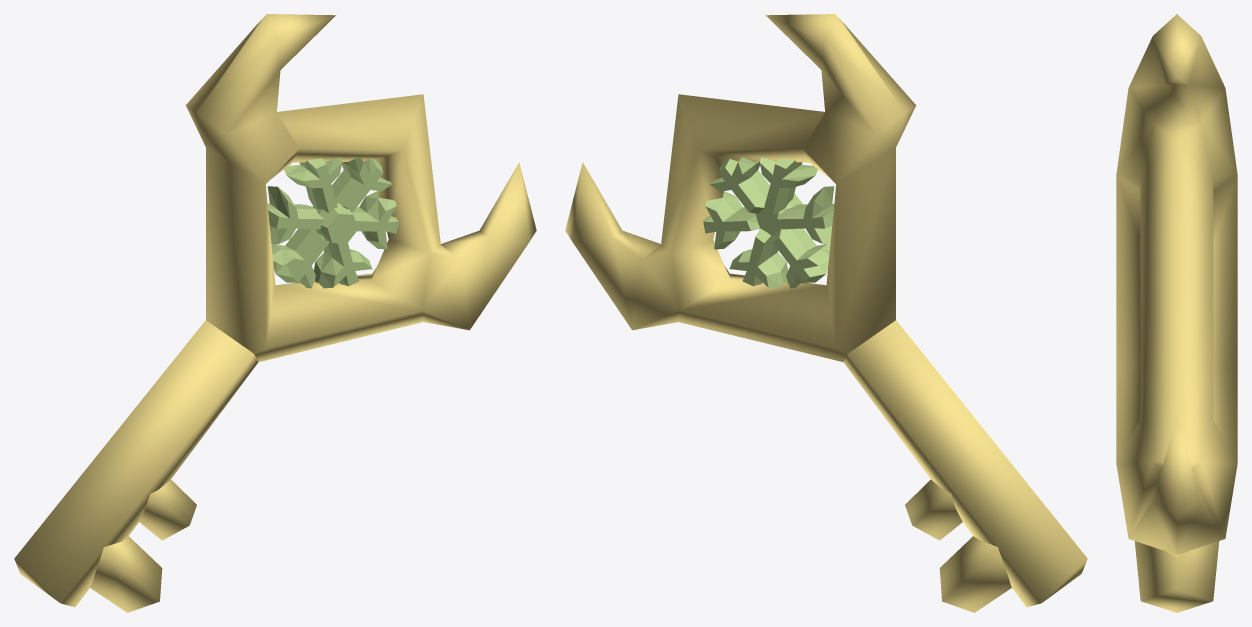
The model's file is SnowheadBossKey.glb.
The picture shows the model from 3 angles, left to right: view 1: azimuth 30°, elevation 25°; view 2: azimuth 150°, elevation 25°; view 3: azimuth 270°, elevation 25°; orthographic projection. The views are drawn at different scales.
Parts seen in each view (by area): view 1: SnowheadBossKey; view 2: SnowheadBossKey; view 3: SnowheadBossKey.
Part boxes in pixels (x1,y1,x2,y2): SnowheadBossKey: (14, 14, 536, 612); SnowheadBossKey: (565, 14, 1087, 612); SnowheadBossKey: (1116, 14, 1237, 612).
Bounding box in the file's own units: 60 × 62 × 10.
